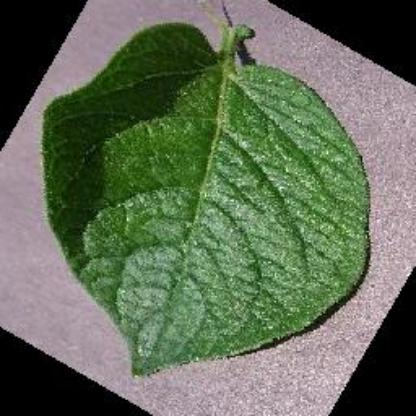Healthy-plant: (42, 17, 370, 375)
